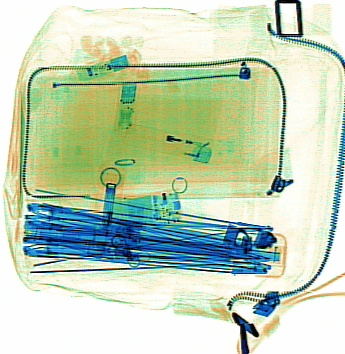lighter: (116, 120, 212, 163)
